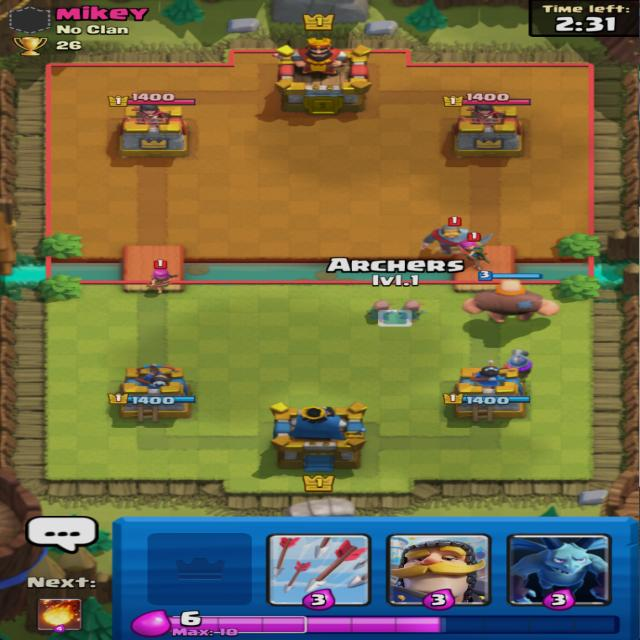6_Elixer: (182, 610, 202, 626)
Archers_Placing: (325, 256, 467, 327)
Arrows_Card: (267, 534, 371, 610)
Bridge: (126, 245, 183, 292), (458, 245, 516, 291)
Elixer_Bar: (130, 608, 622, 638)
Emote: (27, 516, 100, 554)
Empty_Card: (148, 533, 251, 605)
Enemy_Archer_Troop: (144, 260, 177, 294), (460, 232, 491, 268)
Enemy_King_Tower: (258, 38, 373, 125)
Enemy_Knight_Troop: (413, 217, 486, 253)
Fireball_Next: (26, 576, 98, 633)
Giant_Card: (464, 272, 562, 324)
King_Tower: (252, 401, 370, 492)
Knight_Card: (387, 534, 492, 610)
Minions_Card: (507, 533, 611, 610)
Musketeer_Troop: (502, 348, 536, 381)
Princess_Tower: (101, 92, 202, 168), (438, 92, 537, 167), (105, 362, 198, 428), (442, 363, 532, 428)
River: (185, 258, 455, 282), (0, 258, 123, 283), (516, 259, 639, 283)
Time_Left: (529, 0, 640, 37)
